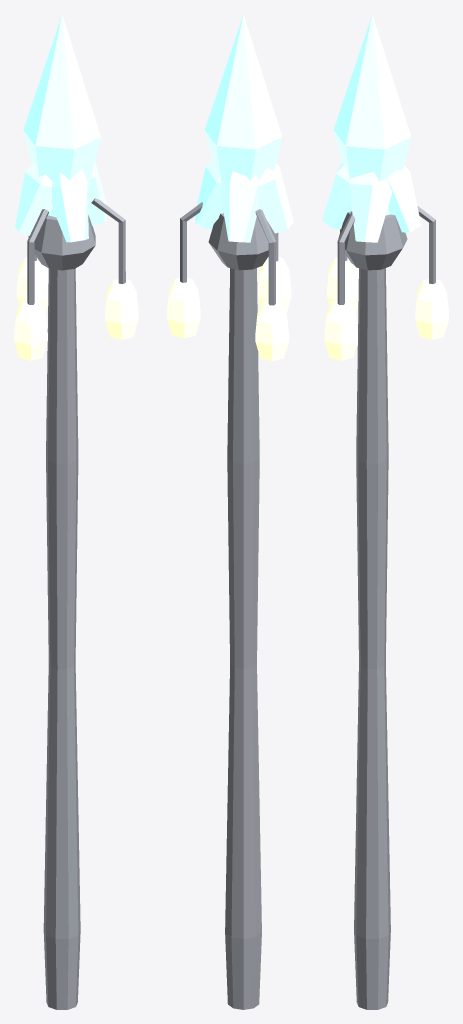
Rendered from staff_lantern.glb.
3 renders of one model, left to right at view 1: azimuth 90°, elevation 25°; view 2: azimuth 150°, elevation 25°; view 3: azimuth 330°, elevation 25°, orthographic.
Parts seen in each view (by area): view 1: Lan_Shaft, Lan_Crown, Lan_Spike2, Lan_CrownSeat, Lan_Lamp1, Lan_Lamp2, Lan_Spike1, Lan_Lamp0, Lan_Bar1, Lan_Bar2, Lan_Spike3; view 2: Lan_Shaft, Lan_Crown, Lan_Spike1, Lan_CrownSeat, Lan_Lamp0, Lan_Lamp1, Lan_Spike2, Lan_Spike0, Lan_Lamp2, Lan_Bar1, Lan_Bar0; view 3: Lan_Shaft, Lan_Crown, Lan_Spike3, Lan_CrownSeat, Lan_Lamp2, Lan_Lamp0, Lan_Spike0, Lan_Spike2, Lan_Lamp1, Lan_Bar2, Lan_Bar0.
Part boxes in pixels (<box>): Lan_Shaft: <box>43,268,80,1009</box>; Lan_Crown: <box>23,14,100,217</box>; Lan_Spike2: <box>51,169,88,242</box>; Lan_CrownSeat: <box>28,215,95,270</box>; Lan_Lamp1: <box>14,300,47,360</box>; Lan_Lamp2: <box>105,279,138,339</box>; Lan_Spike1: <box>15,162,52,235</box>; Lan_Lamp0: <box>16,257,48,312</box>; Lan_Bar1: <box>27,209,48,304</box>; Lan_Bar2: <box>91,198,125,283</box>; Lan_Spike3: <box>87,161,108,226</box>; Lan_Shaft: <box>225,268,261,1009</box>; Lan_Crown: <box>204,14,282,209</box>; Lan_Spike1: <box>220,171,260,242</box>; Lan_CrownSeat: <box>208,213,278,270</box>; Lan_Lamp0: <box>167,278,200,338</box>; Lan_Lamp1: <box>255,300,288,361</box>; Lan_Spike2: <box>258,163,293,233</box>; Lan_Spike0: <box>194,159,223,229</box>; Lan_Lamp2: <box>258,257,291,312</box>; Lan_Bar1: <box>255,209,275,305</box>; Lan_Bar0: <box>180,202,202,282</box>; Lan_Shaft: <box>354,268,390,1009</box>; Lan_Crown: <box>333,14,411,215</box>; Lan_Spike3: <box>349,172,392,242</box>; Lan_CrownSeat: <box>337,211,407,270</box>; Lan_Lamp2: <box>324,300,357,360</box>; Lan_Lamp0: <box>415,279,448,339</box>; Lan_Spike0: <box>387,165,421,232</box>; Lan_Spike2: <box>322,163,351,229</box>; Lan_Lamp1: <box>327,257,358,312</box>; Lan_Bar2: <box>337,211,355,304</box>; Lan_Bar0: <box>417,206,435,283</box>.
Size of the model in its own units: 0.2498 by 1.92 by 0.2185.
